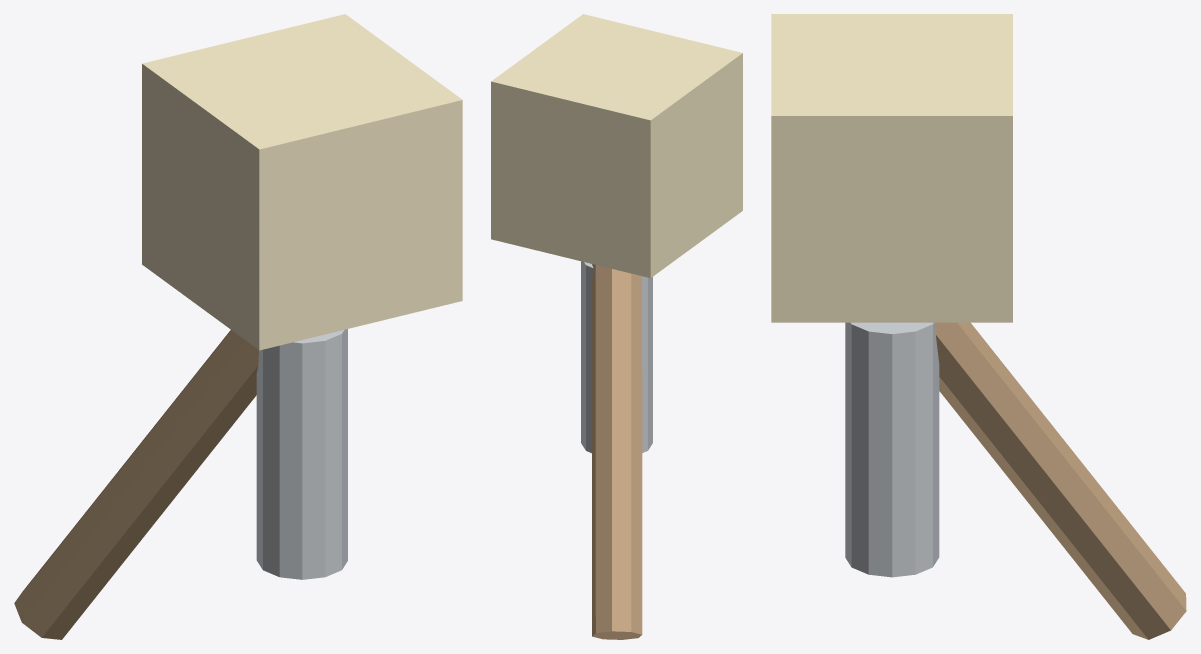
Rendered from taladro_auto.glb.
3 renders of one model, left to right at view 1: azimuth 30°, elevation 25°; view 2: azimuth 150°, elevation 25°; view 3: azimuth 270°, elevation 25°, orthographic. The views are drawn at different scales.
Visible parts, largest first — view 1: motor, broca, pata; view 2: motor, pata, broca; view 3: motor, pata, broca.
Boxes of the visible parts, bbox=[...] form: motor: bbox=[142, 14, 462, 350]; broca: bbox=[256, 329, 347, 579]; pata: bbox=[14, 330, 258, 639]; motor: bbox=[491, 14, 742, 278]; pata: bbox=[592, 264, 642, 639]; broca: bbox=[581, 261, 652, 453]; motor: bbox=[771, 14, 1012, 322]; pata: bbox=[935, 322, 1186, 639]; broca: bbox=[845, 322, 939, 577].
Bounding box in the file's own units: 0.2284 × 0.519 × 0.3093.
